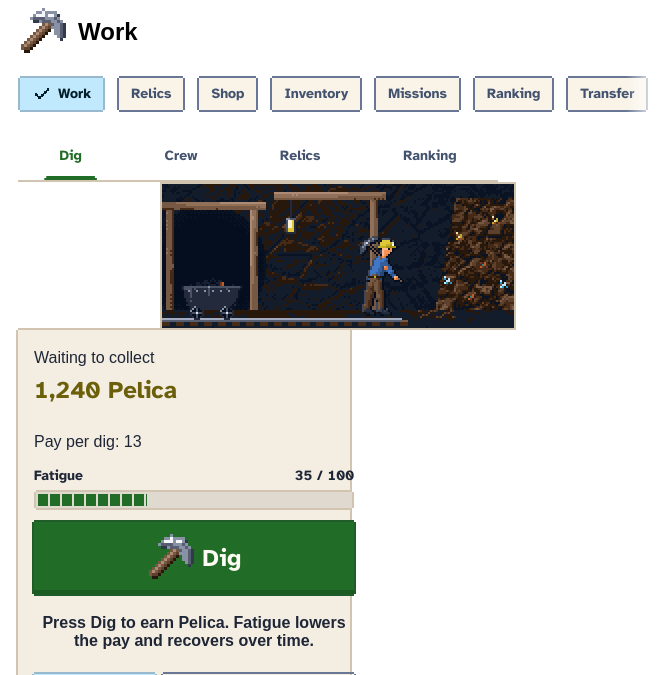
Test: labor › merges ten relics into the next star
Click the tab "Relics" at (300, 156), box 239,132 -> 362,180
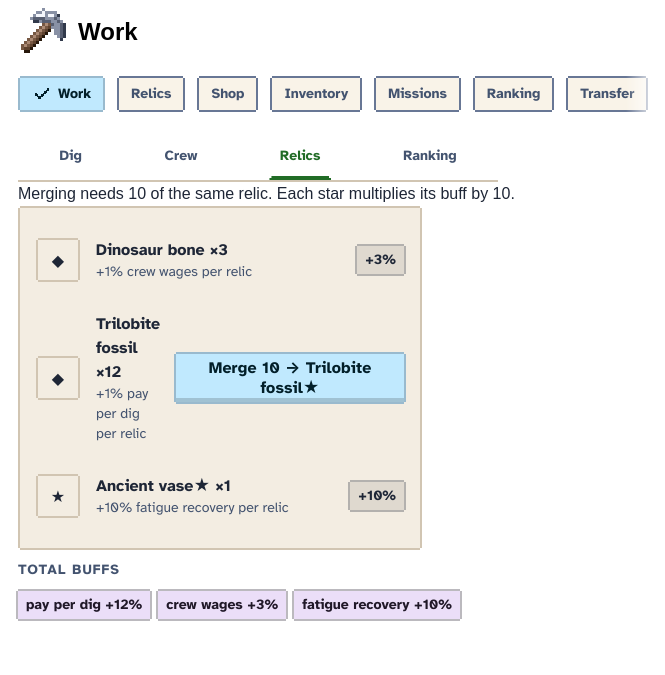
Expected: the text "Trilobite fossil ×12" is shown, 96,312 -> 160,384
Click the button "Merge 10 → Trilobite fossil★" at (290, 378), box 176,354 -> 404,402
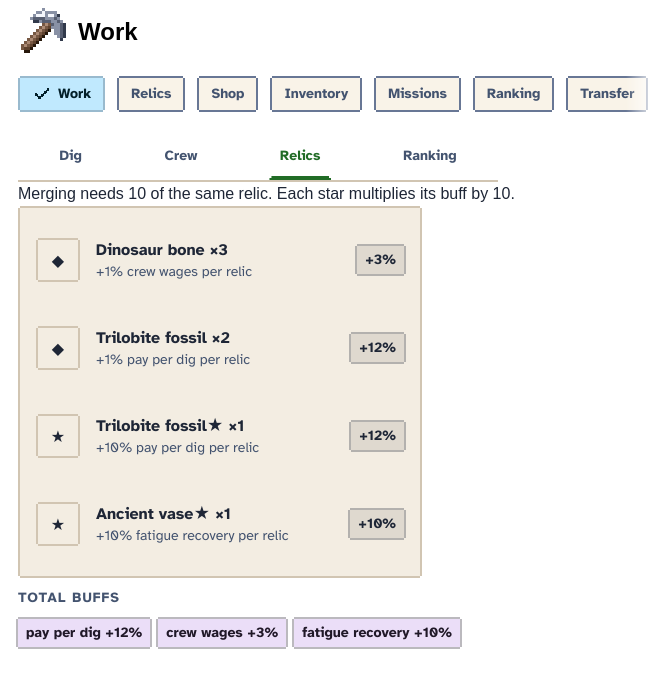
Expected: the text "Trilobite fossil ×2" is shown, 96,328 -> 230,348
Expected: the text "Trilobite fossil★ ×1" is shown, 96,416 -> 244,436
